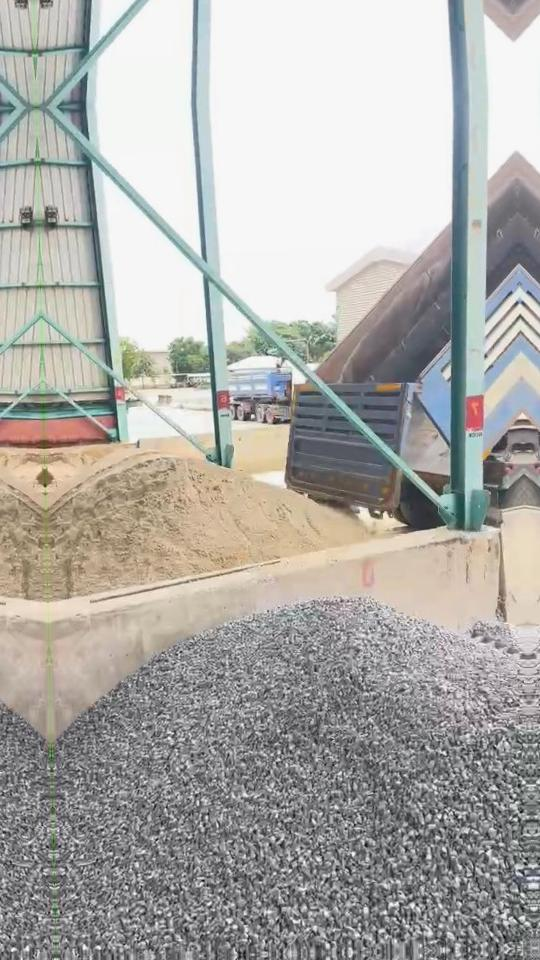gravel: (56, 598, 535, 959)
sand: (47, 447, 368, 599), (46, 443, 129, 481)
